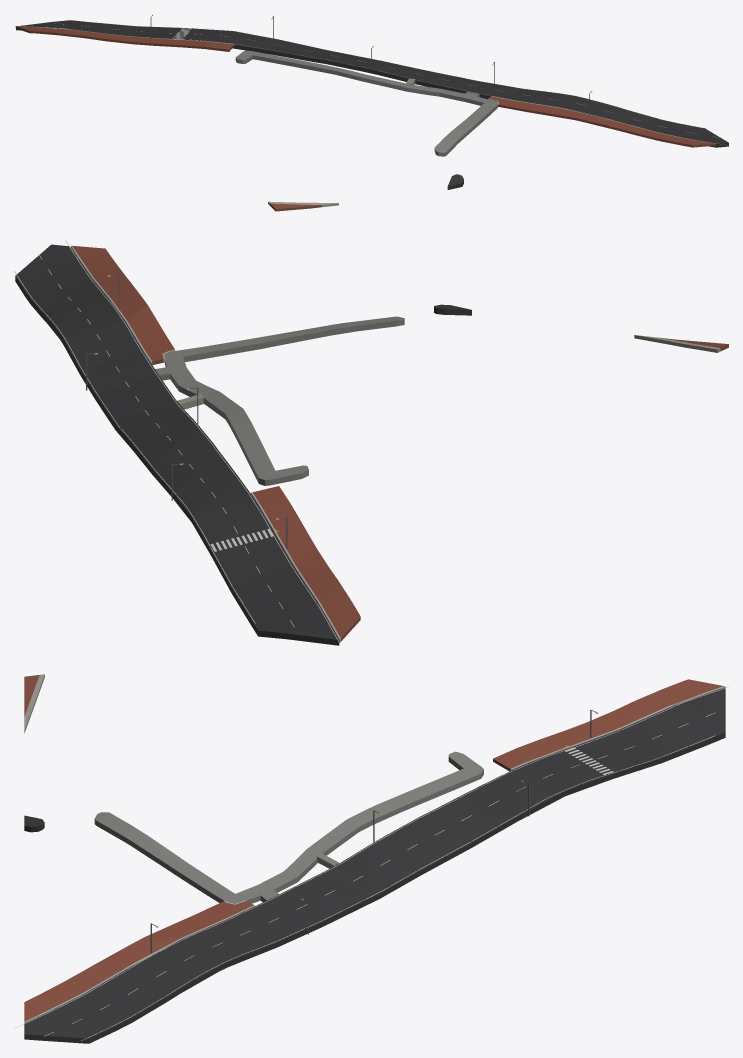
The picture shows the model from 3 angles, top to bottom: view 1: azimuth 30°, elevation 25°; view 2: azimuth 150°, elevation 25°; view 3: azimuth 270°, elevation 25°; orthographic projection. The views are drawn at different scales.
Size of the model in its own units: 148 by 21.08 by 149.
